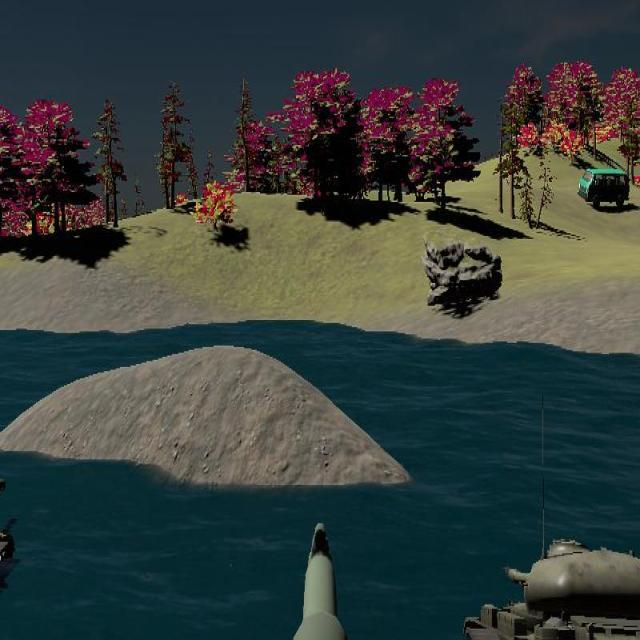Tank: (461, 536, 640, 640), (0, 509, 15, 582)
car: (578, 167, 630, 211)
